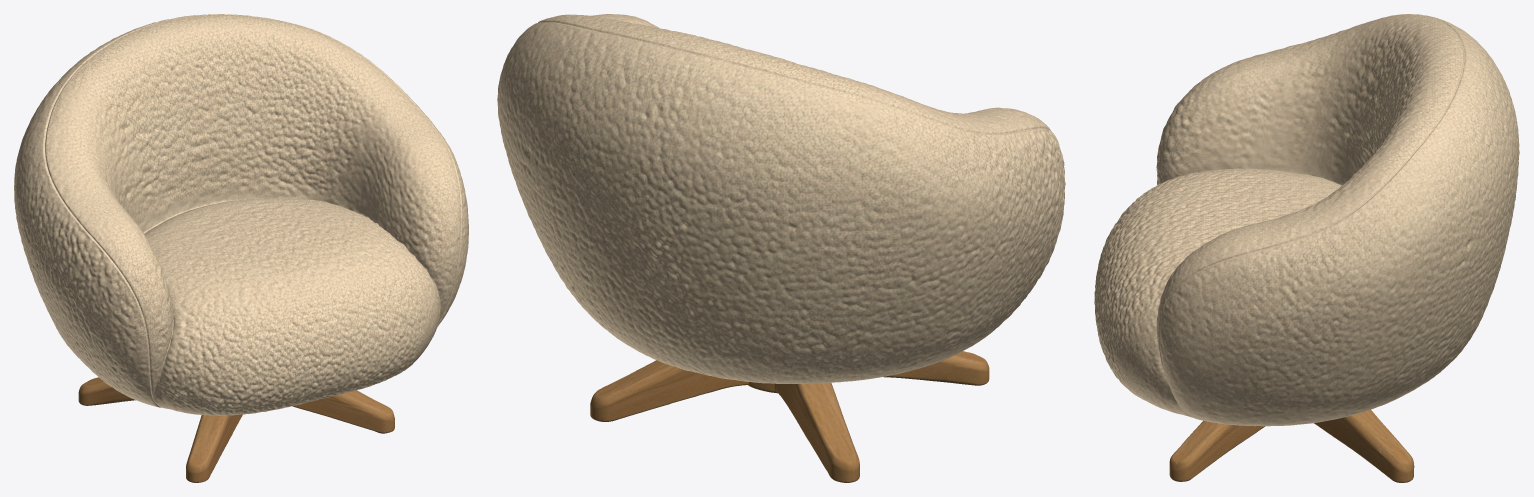
The model's file is Ora Lounge Chair.glb.
The picture shows the model from 3 angles, left to right: view 1: azimuth 30°, elevation 25°; view 2: azimuth 150°, elevation 25°; view 3: azimuth 270°, elevation 25°; orthographic projection. The views are drawn at different scales.
Size of the model in its own units: 0.1463 by 0.12 by 0.1235.
1 material, 1 textured.
